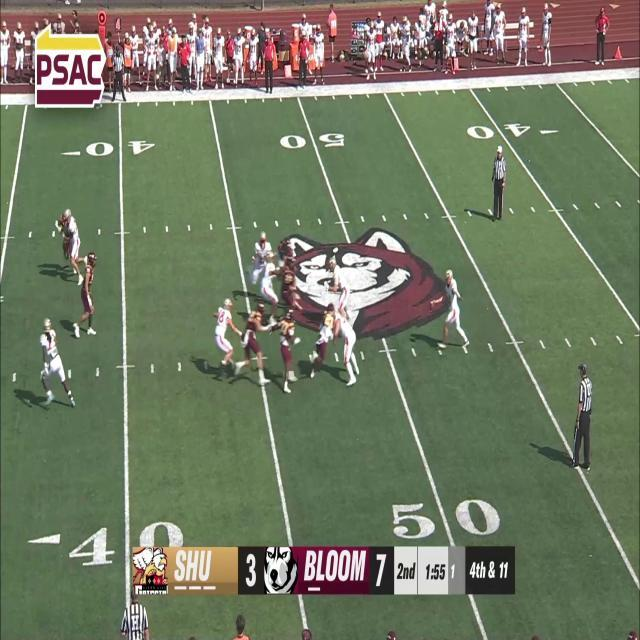football: (430, 300, 434, 313)
